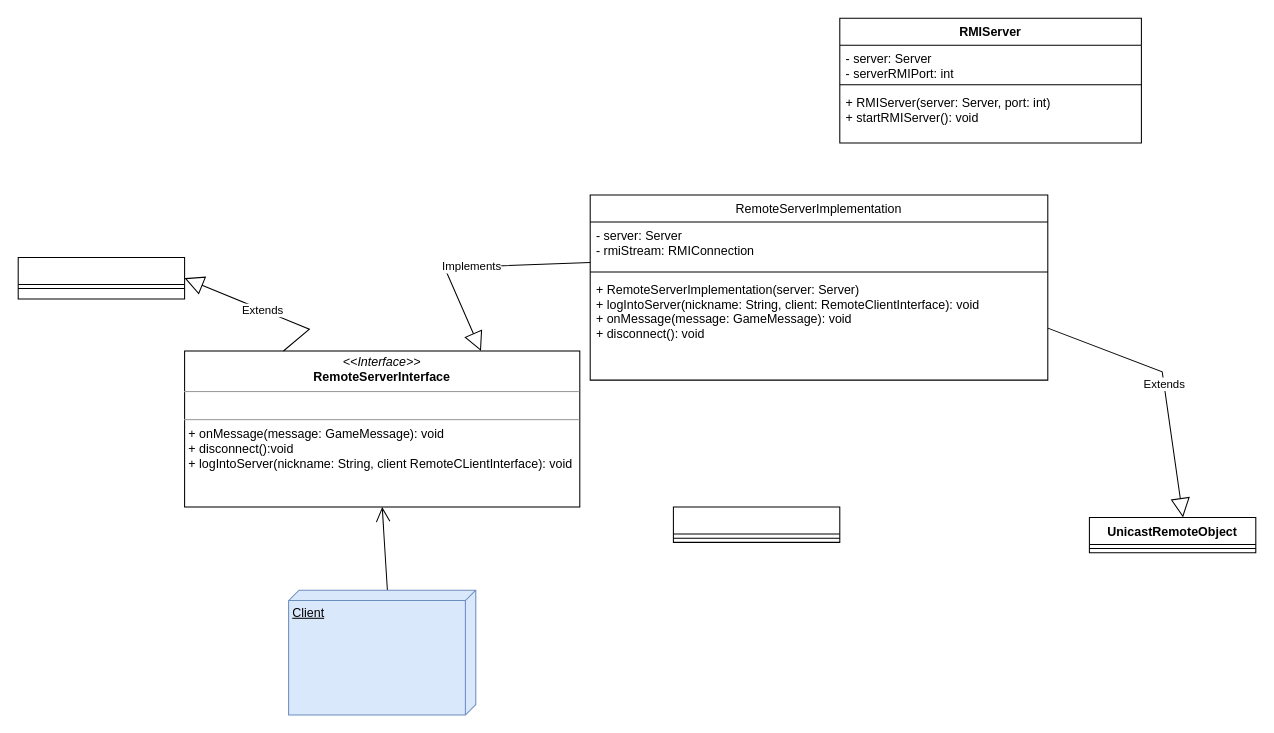
This 1274x733 diagram has some shape labels left out. Each missing label, with the centre of its shape:
GameMessage: (x=756, y=524)
Remote: (x=101, y=277)
